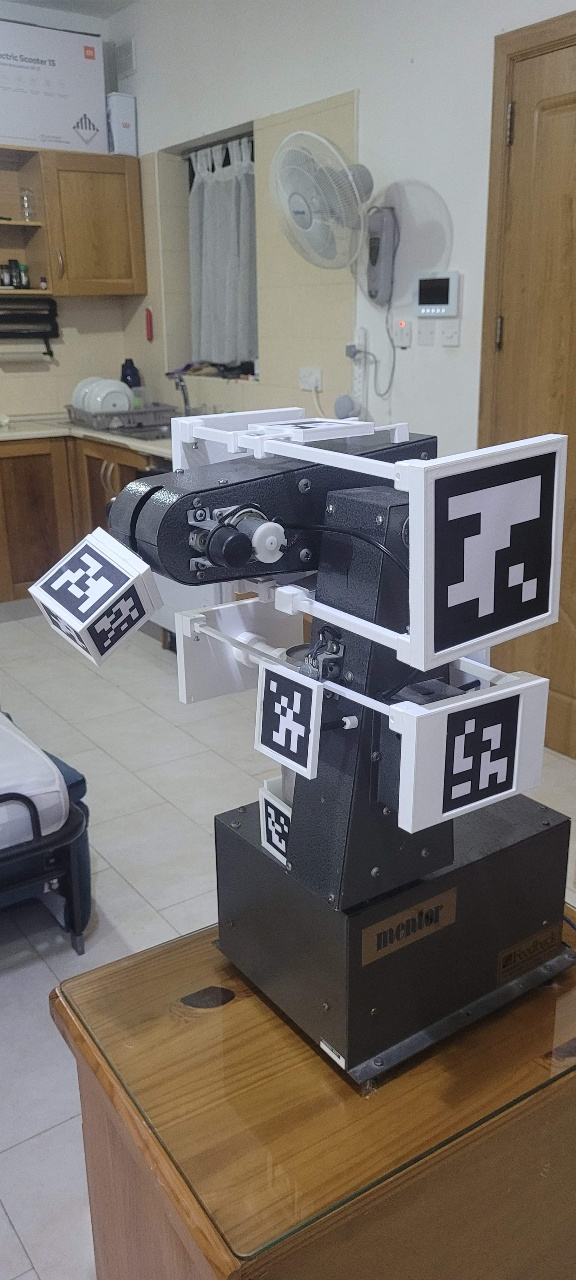Robot: (5, 187, 494, 939)
